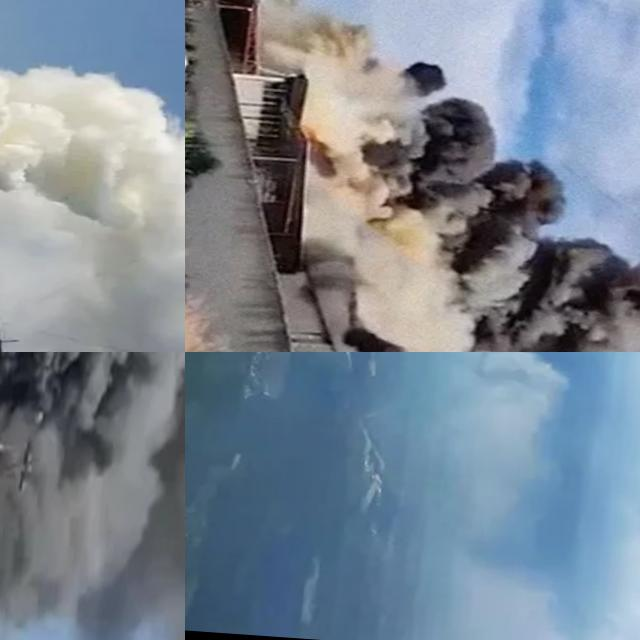smoke: (214, 0, 640, 352), (0, 0, 185, 352), (0, 352, 185, 640)
